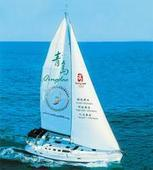fanchuan: (22, 9, 128, 165)
